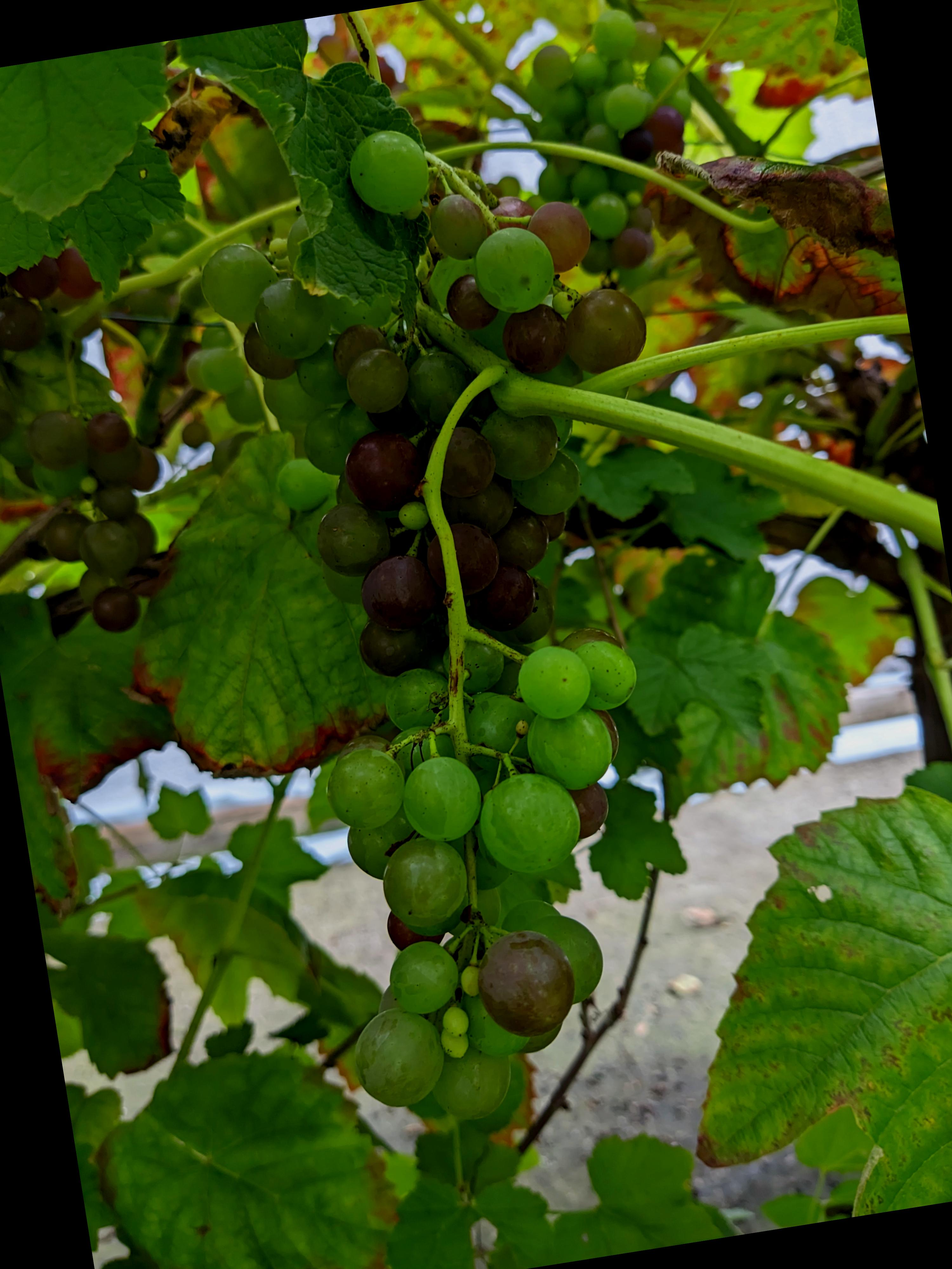Grape Unripe: (68, 185, 631, 1235), (416, 66, 663, 359), (0, 191, 96, 732)
